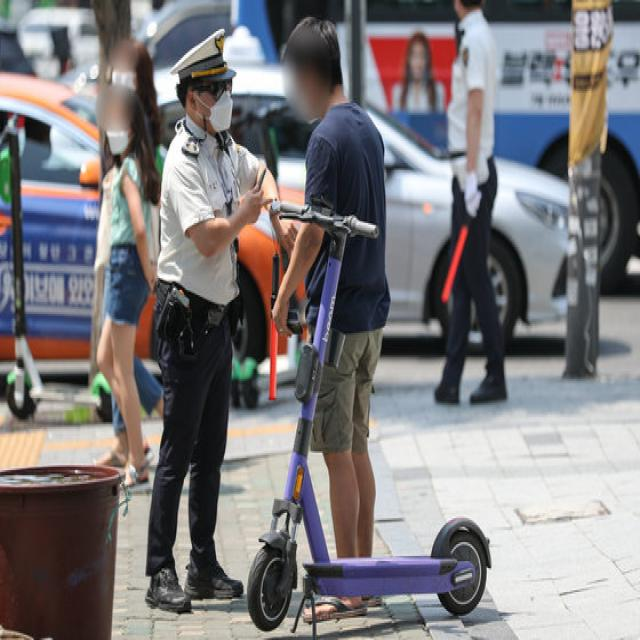non-helmet: (235, 8, 508, 640)
